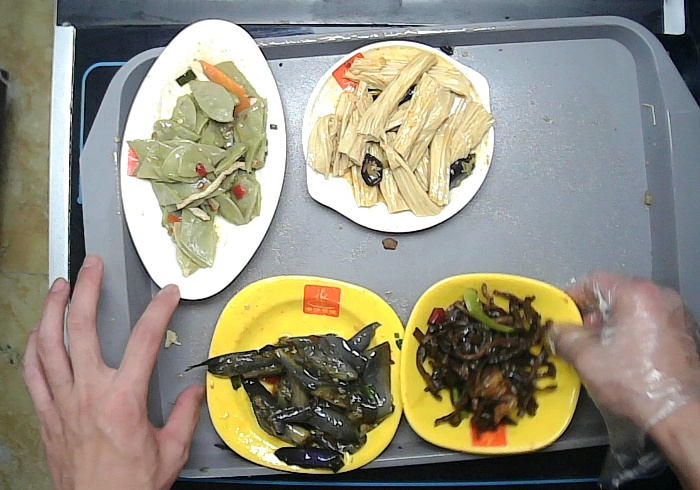SHKJ-Bao_Yu_Pan: (302, 40, 495, 233)
SHKJ-Huang_Se_Cai_Die: (400, 273, 585, 454)
SHKJ-Huang_Se_Si_Fang_Cai_Die: (207, 275, 407, 474)
SHKJ-Yu_Pan: (120, 19, 287, 300)
